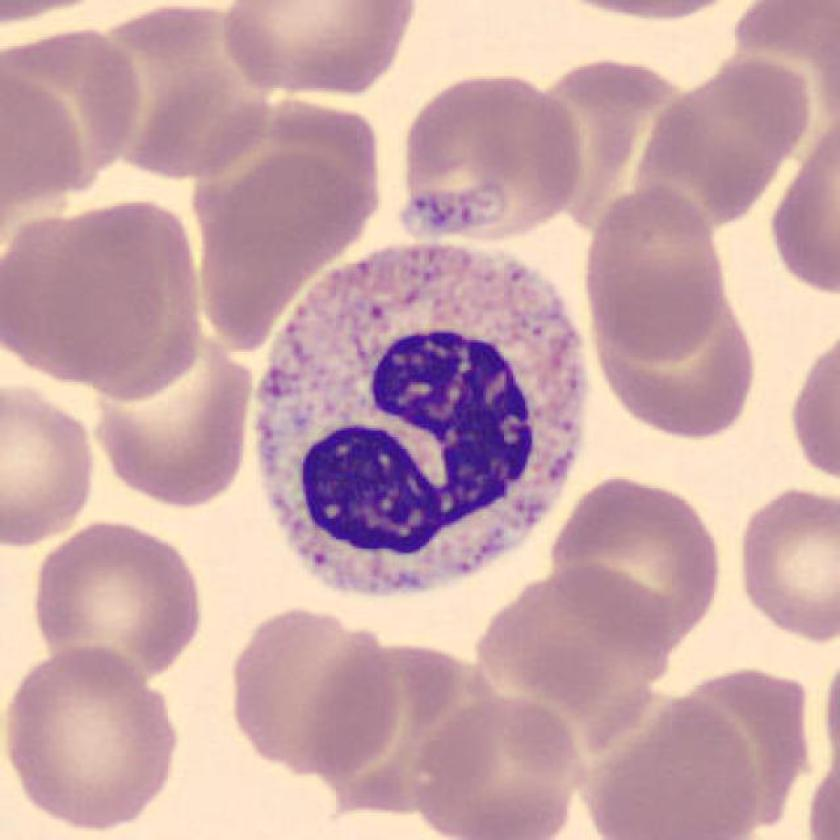neutrophil: (258, 248, 588, 598)
